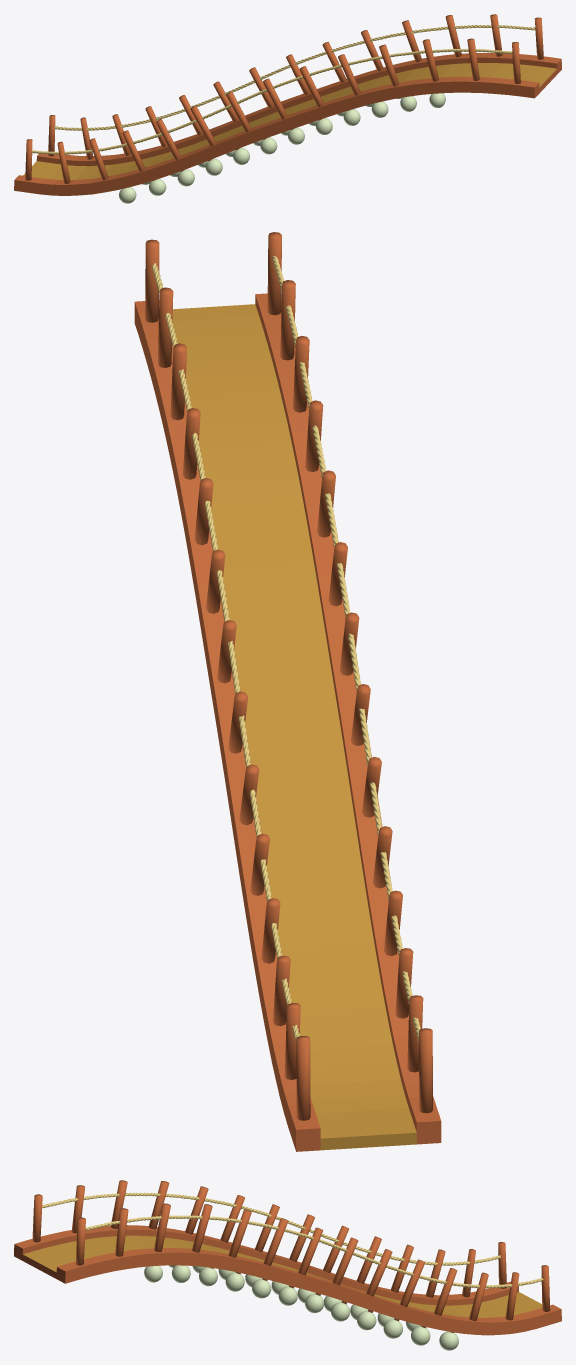
Rendered from brigesRope_Twist_013.fbx.
The picture shows the model from 3 angles, top to bottom: view 1: azimuth 30°, elevation 25°; view 2: azimuth 150°, elevation 25°; view 3: azimuth 270°, elevation 25°; orthographic projection. The views are drawn at different scales.
Visible parts, largest first — view 1: Rope.Twist.013; view 2: Rope.Twist.013; view 3: Rope.Twist.013.
Part boxes in pixels (box(x1,y1,x2,y2)): Rope.Twist.013: box(14, 14, 561, 203); Rope.Twist.013: box(134, 232, 441, 1151); Rope.Twist.013: box(14, 1180, 561, 1350).
Size of the model in its own units: 1115 by 697 by 1337.
